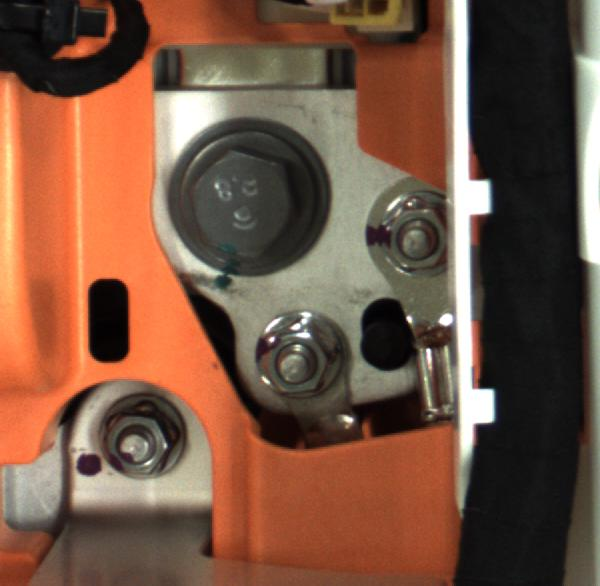nut_b: (162, 115, 327, 265)
screw_s: (242, 310, 370, 408), (88, 393, 190, 485), (378, 187, 462, 280)
